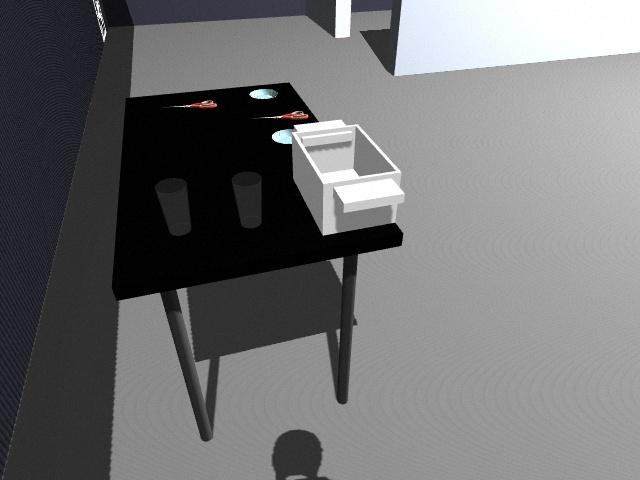cup: (155, 179, 191, 235), (232, 172, 263, 228)
plate: (249, 88, 281, 100), (272, 129, 294, 144)
scissors: (253, 111, 307, 121), (165, 100, 217, 110)
